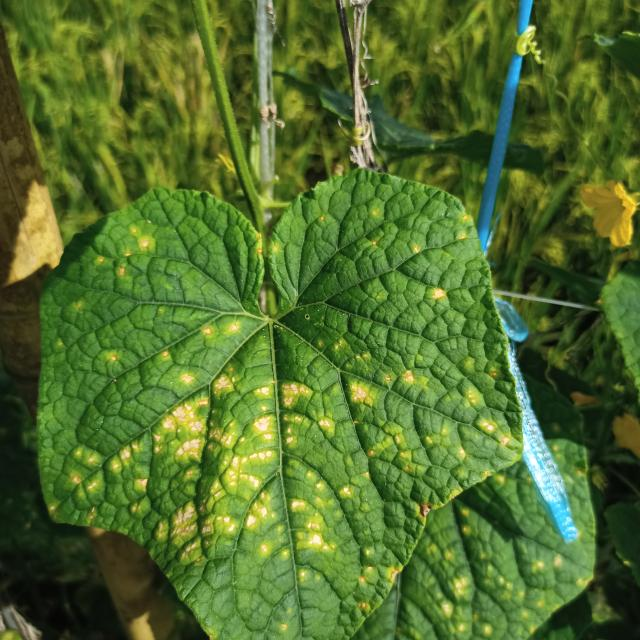disease_cucumber: (48, 211, 511, 624)
